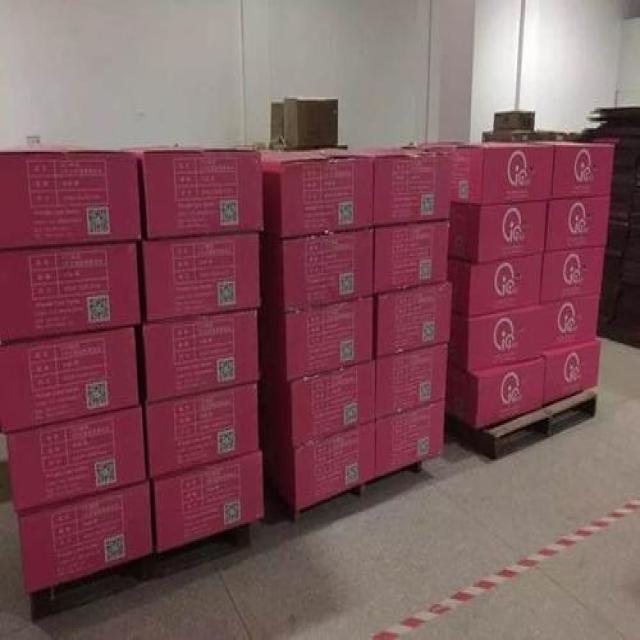box: (6, 404, 147, 515), (15, 481, 154, 592), (0, 328, 140, 433), (0, 241, 142, 343), (0, 150, 142, 249), (131, 147, 264, 241), (142, 309, 259, 404), (154, 451, 265, 551), (146, 382, 259, 480), (143, 232, 260, 323), (264, 148, 374, 241), (260, 360, 375, 447), (262, 422, 375, 510), (259, 297, 375, 381), (260, 229, 374, 311), (420, 143, 554, 205), (349, 147, 452, 227), (448, 357, 544, 430), (448, 251, 544, 317), (449, 200, 548, 263), (449, 304, 543, 370), (376, 282, 452, 358), (376, 341, 449, 420), (374, 220, 451, 294), (375, 399, 445, 480), (544, 338, 600, 406), (540, 246, 605, 304), (545, 196, 611, 251), (552, 143, 614, 200), (543, 295, 599, 352), (283, 99, 339, 147), (270, 101, 284, 148)
